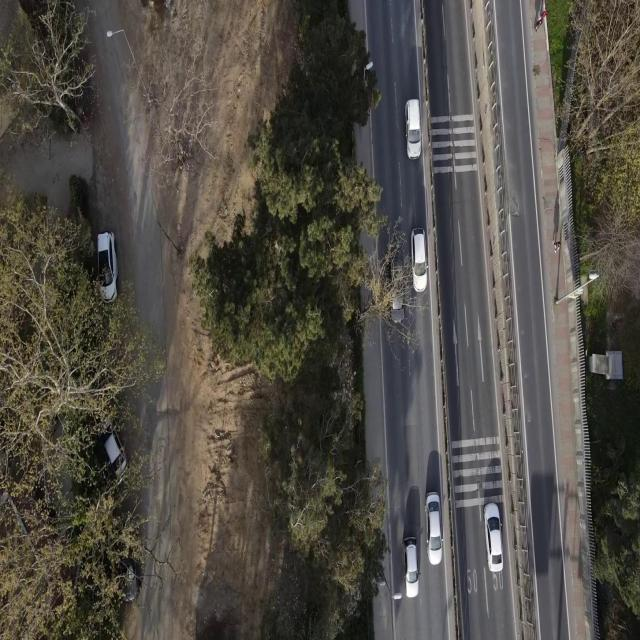p3rson: (552, 239, 561, 254), (540, 7, 547, 25), (534, 18, 542, 33)
